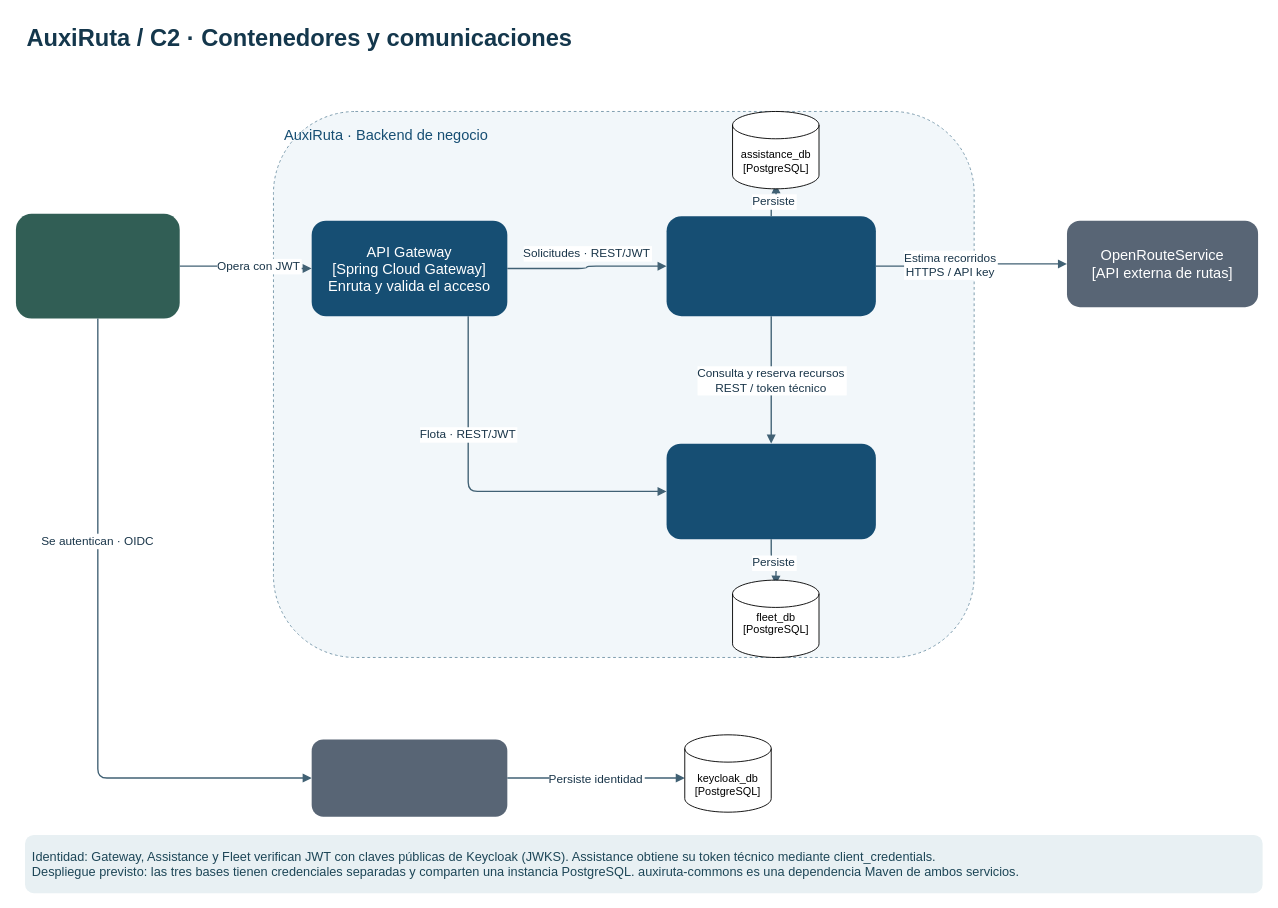
This 1278x908 diagram has some shape labels left out. Each missing label, with the centre of its shape:
"Assistance [Java / Spring Boot] Solicitudes y asignaciones" belongs at [770,266].
"Fleet [Java / Spring Boot] Flota y reservas exclusivas" belongs at [770,491].
"Keycloak [Proveedor de identidad]" belongs at [409,777].
"Usuarios [Personas] Conductor · Operador Coordinador · Administrador" belongs at [97,265].
